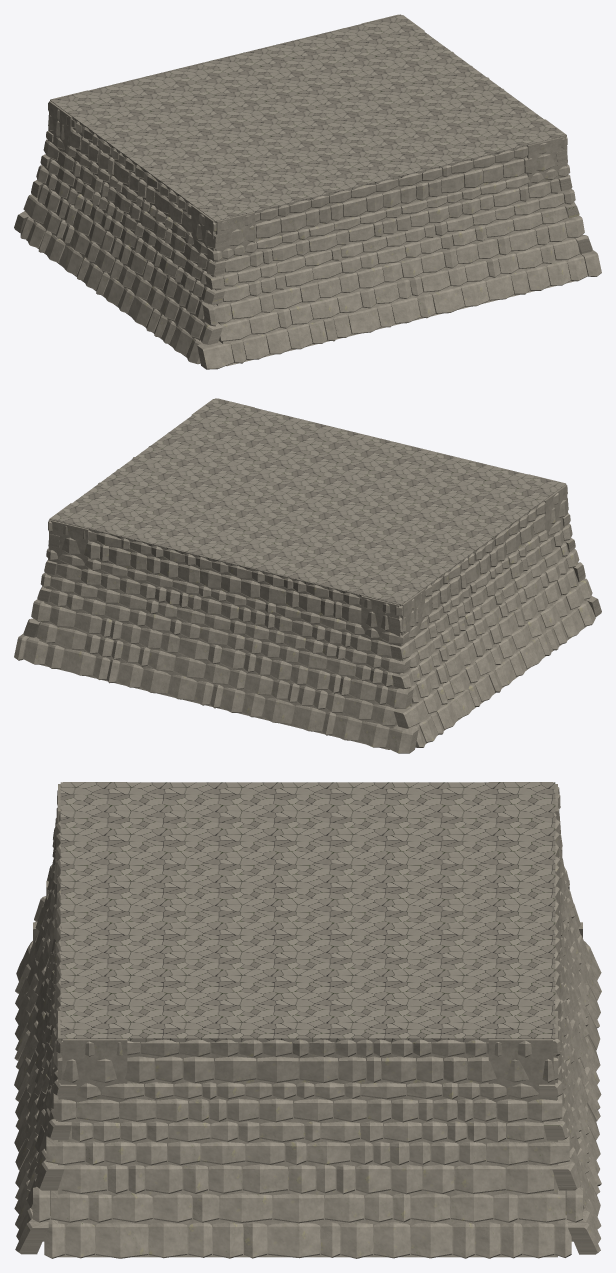
Rendered from HO_Castle_Keep_Base.fbx.
The picture shows the model from 3 angles, top to bottom: view 1: azimuth 30°, elevation 25°; view 2: azimuth 150°, elevation 25°; view 3: azimuth 270°, elevation 25°; orthographic projection. The views are drawn at different scales.
Visible parts, largest first — view 1: HO_Castle_Keep_Base_Top__Stone_Fitted, HO_Castle_Keep_Base_Back, HO_Castle_Keep_Base_Left, HO_Castle_Keep_Base_Right, HO_Castle_Keep_Base_Front; view 2: HO_Castle_Keep_Base_Top__Stone_Fitted, HO_Castle_Keep_Base_Front, HO_Castle_Keep_Base_Left, HO_Castle_Keep_Base_Right, HO_Castle_Keep_Base_Back; view 3: HO_Castle_Keep_Base_Top__Stone_Fitted, HO_Castle_Keep_Base_Right, HO_Castle_Keep_Base_Front, HO_Castle_Keep_Base_Back.
Boxes of the visible parts, x1,y1,x2,y2 form: HO_Castle_Keep_Base_Top__Stone_Fitted: (50,14,565,223); HO_Castle_Keep_Base_Back: (191,119,601,369); HO_Castle_Keep_Base_Left: (20,90,254,364); HO_Castle_Keep_Base_Right: (361,14,592,253); HO_Castle_Keep_Base_Front: (14,15,424,233); HO_Castle_Keep_Base_Top__Stone_Fitted: (50,398,566,605); HO_Castle_Keep_Base_Front: (14,503,424,753); HO_Castle_Keep_Base_Left: (361,474,595,747); HO_Castle_Keep_Base_Right: (23,398,254,637); HO_Castle_Keep_Base_Back: (191,399,601,616); HO_Castle_Keep_Base_Top__Stone_Fitted: (60,782,555,1042); HO_Castle_Keep_Base_Right: (33,1011,582,1258); HO_Castle_Keep_Base_Front: (488,782,601,1254); HO_Castle_Keep_Base_Back: (14,782,127,1254).
Size of the model in its own units: 50.34 by 16.06 by 42.34.
